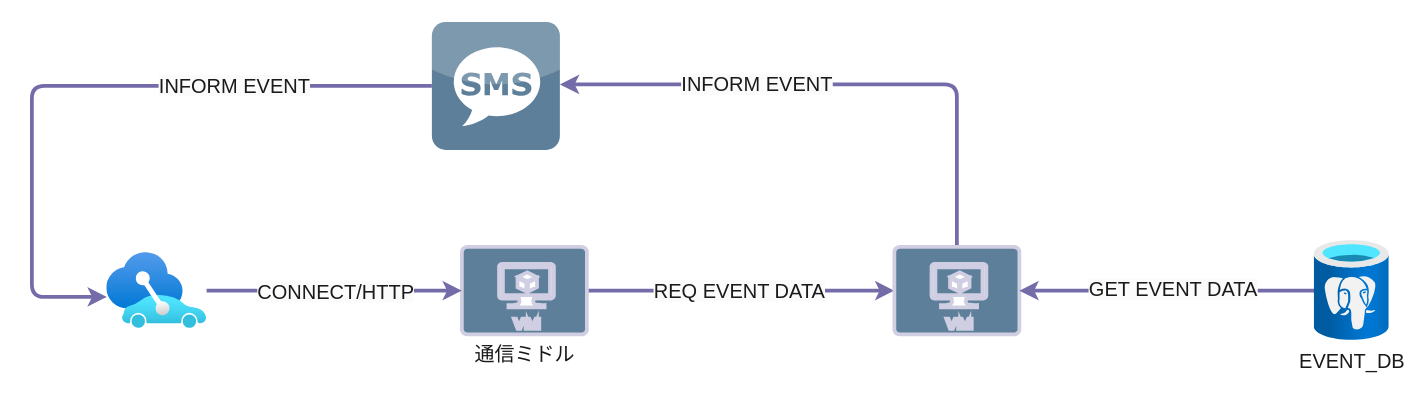
Some shapes in this 1426 by 395 pixel diagram are drawn without their labels. Each missing label, with the box of its shape:
ISUZU: (106, 252, 206, 328)
分析ミドル: (892, 244, 1021, 336)
